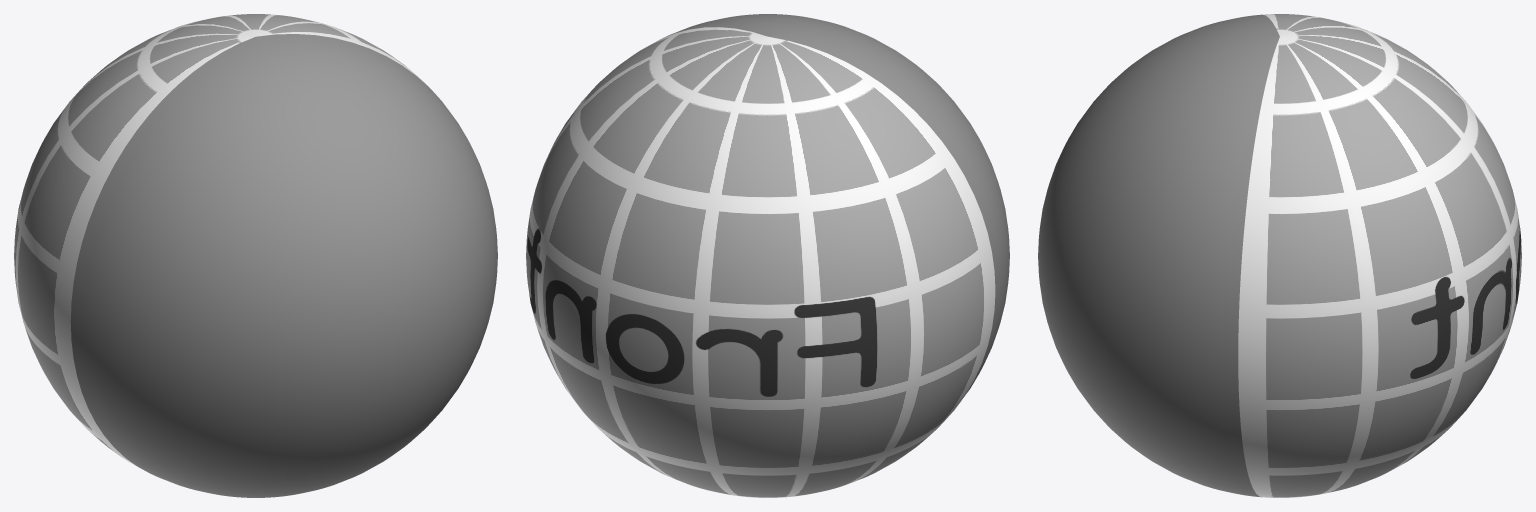
Rendered from sphere200_split.FBX.
3 renders of one model, left to right at view 1: azimuth 30°, elevation 25°; view 2: azimuth 150°, elevation 25°; view 3: azimuth 270°, elevation 25°, orthographic.
Parts seen in each view (by area): view 1: SphereHalf_bk, SphereHalf_fr; view 2: SphereHalf_fr, SphereHalf_bk; view 3: SphereHalf_fr, SphereHalf_bk.
Part boxes in pixels (<box>): SphereHalf_bk: <box>70,34,497,497</box>; SphereHalf_fr: <box>14,14,429,465</box>; SphereHalf_fr: <box>526,27,995,497</box>; SphereHalf_bk: <box>664,14,1009,393</box>; SphereHalf_fr: <box>1238,14,1521,497</box>; SphereHalf_bk: <box>1038,14,1279,497</box>.
Size of the model in its own units: 55.37 by 55.37 by 55.37.
